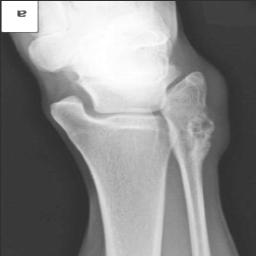cancer: (158, 78, 218, 169)
